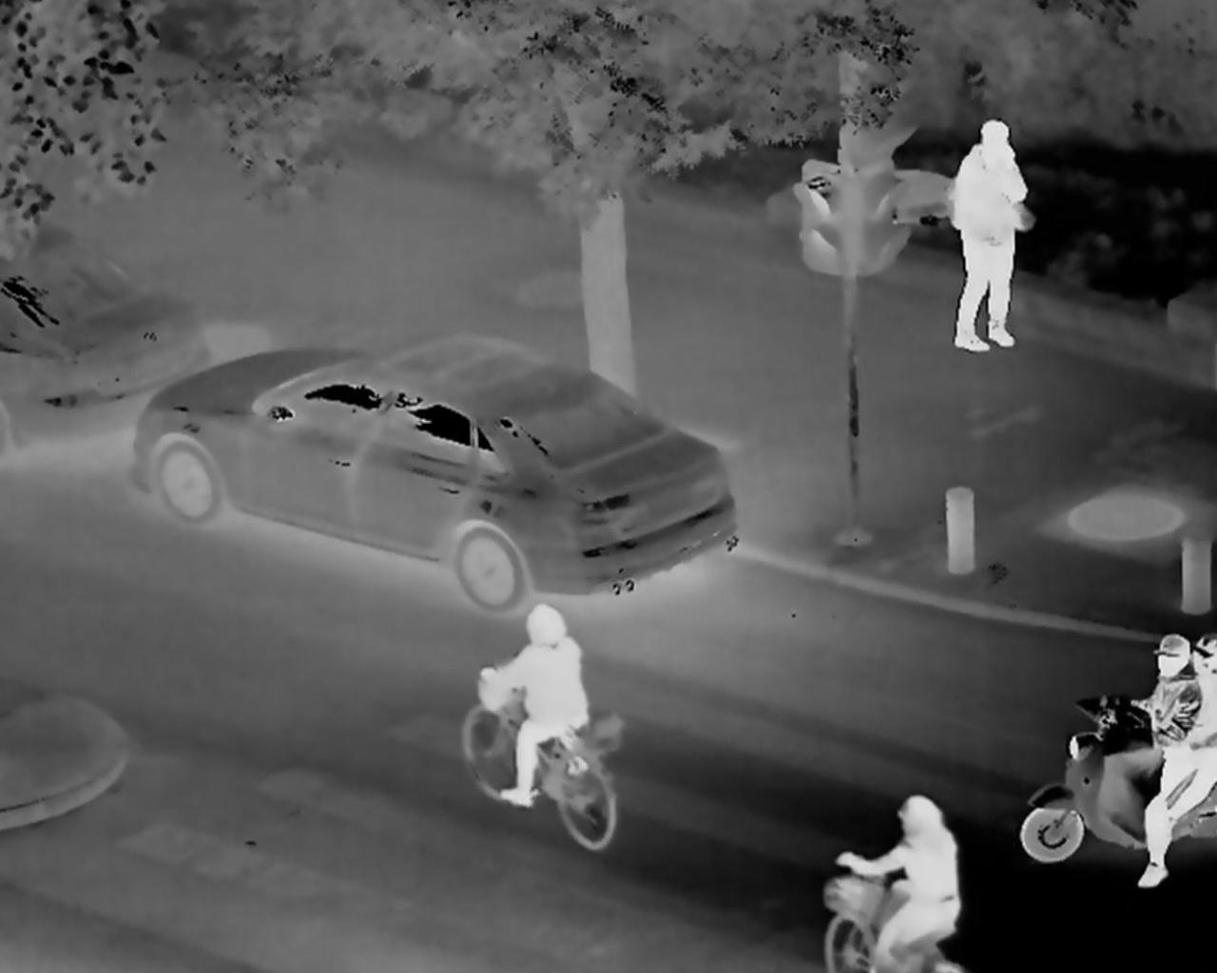person: (462, 591, 604, 832), (829, 783, 970, 973), (934, 110, 1036, 355), (1119, 633, 1217, 888)
